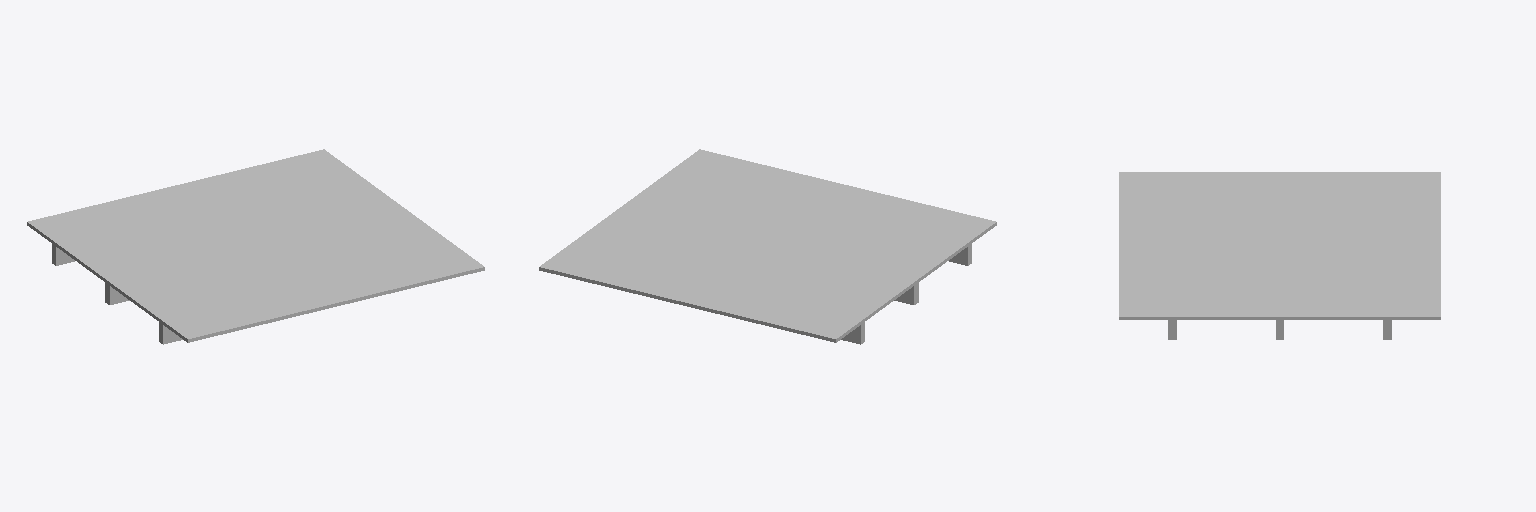
Rendered from Lecture1_a.obj.
The picture shows the model from 3 angles: view 1: azimuth 30°, elevation 25°; view 2: azimuth 150°, elevation 25°; view 3: azimuth 270°, elevation 25°; orthographic projection.
Bounding box in the file's own units: 16000 × 1200 × 15000.